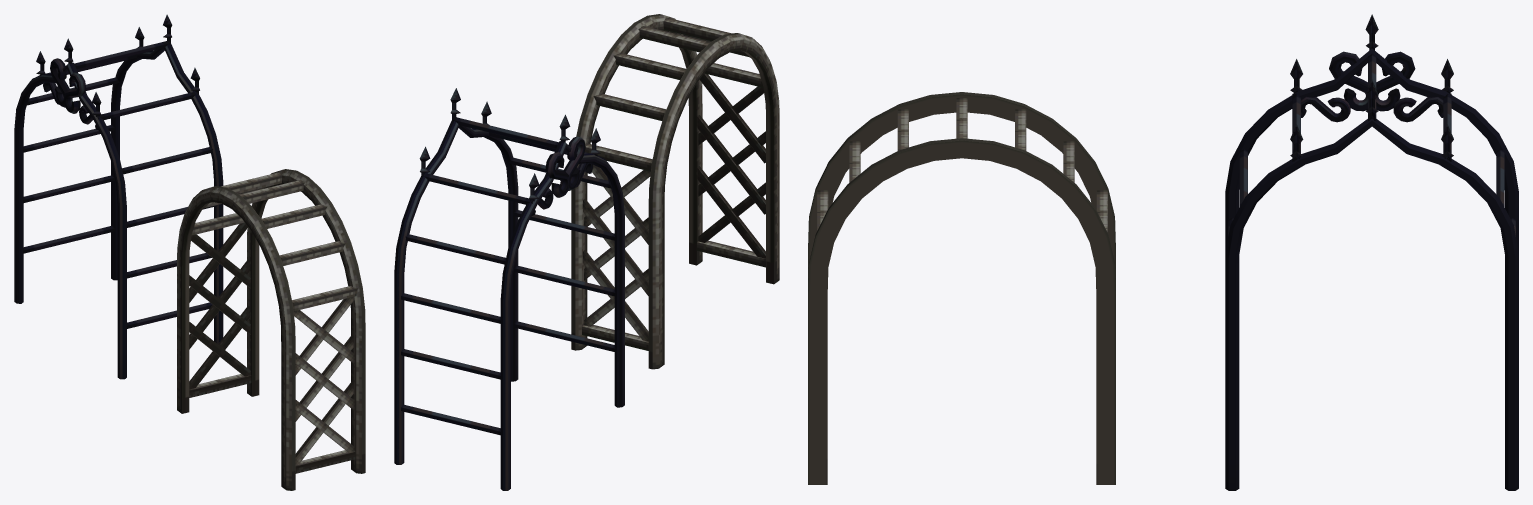
Rendered from EnvMdrMD_Garden_A_GardenArch_A.FBX.
The picture shows the model from 3 angles, left to right: view 1: azimuth 30°, elevation 25°; view 2: azimuth 150°, elevation 25°; view 3: azimuth 270°, elevation 25°; orthographic projection. The views are drawn at different scales.
Parts seen in each view (by area): view 1: EnvMdrMD_Garden_A_GardenArch_A, EnvMdrMD_Garden_A_GardenArch_B; view 2: EnvMdrMD_Garden_A_GardenArch_A, EnvMdrMD_Garden_A_GardenArch_B; view 3: EnvMdrMD_Garden_A_GardenArch_A, EnvMdrMD_Garden_A_GardenArch_B.
Boxes of the visible parts, x1,y1,x2,y2 form: EnvMdrMD_Garden_A_GardenArch_A: [177, 169, 365, 490]; EnvMdrMD_Garden_A_GardenArch_B: [14, 14, 223, 379]; EnvMdrMD_Garden_A_GardenArch_A: [571, 14, 779, 369]; EnvMdrMD_Garden_A_GardenArch_B: [394, 88, 624, 490]; EnvMdrMD_Garden_A_GardenArch_A: [808, 92, 1115, 484]; EnvMdrMD_Garden_A_GardenArch_B: [1225, 14, 1518, 490].
Size of the model in its own units: 221 by 603 by 942.
Materials: 1 (1 with a texture image).
